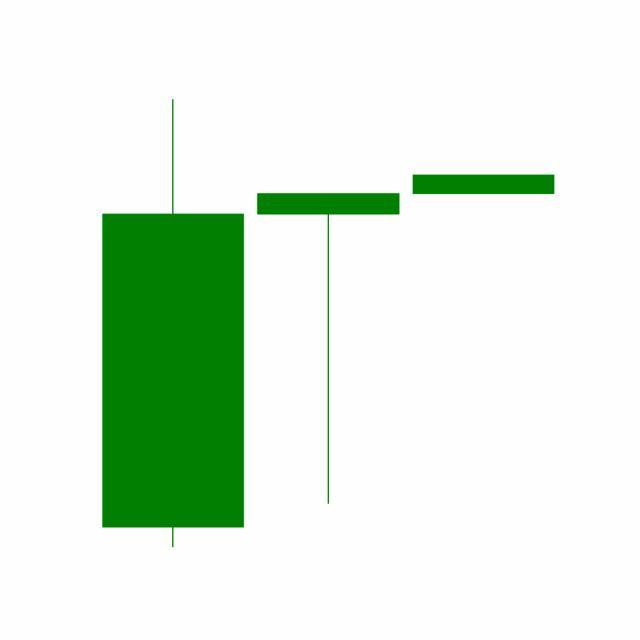Dragonfly Doji: (250, 190, 407, 508)
